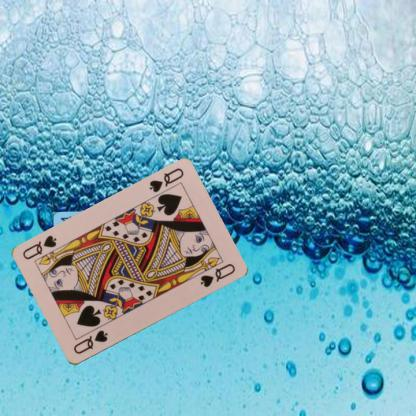Qs: (146, 165, 185, 194), (71, 328, 109, 356)
